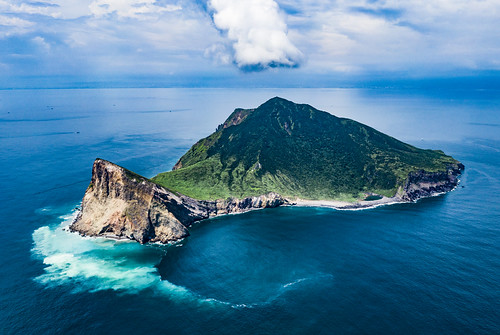turtleIslandTop: (70, 92, 465, 246)
